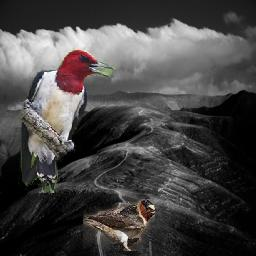Swallow: (83, 199, 155, 251)
Woodpecker: (16, 49, 116, 193)
